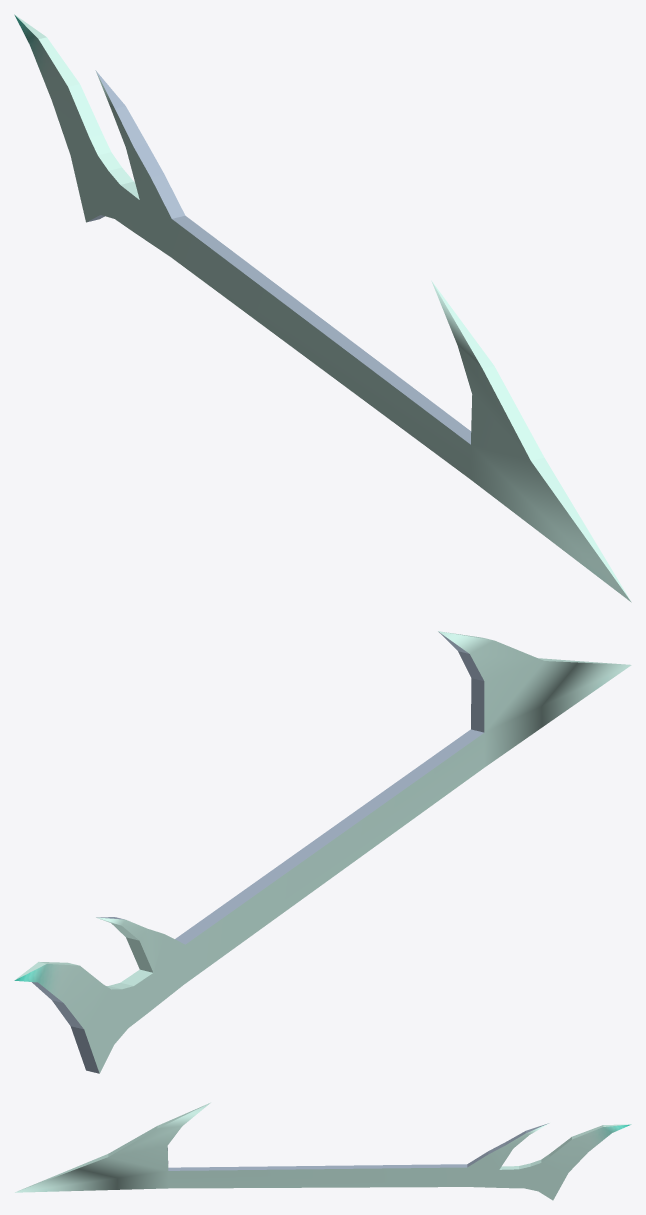
File: Dice_wind_wepone.FBX
3 views of the same model, one above another, from view 1: azimuth 30°, elevation 25°; view 2: azimuth 150°, elevation 25°; view 3: azimuth 270°, elevation 25° (orthographic). The views are drawn at different scales.
Parts seen in each view (by area): view 1: Dice_wind_wepone; view 2: Dice_wind_wepone; view 3: Dice_wind_wepone.
Boxes of the visible parts, <box> form: Dice_wind_wepone: <box>14,14,631,602</box>; Dice_wind_wepone: <box>14,631,631,1073</box>; Dice_wind_wepone: <box>15,1102,631,1200</box>.
Bounding box in the file's own units: 1.17 × 15.78 × 92.11.
1 material, 1 textured.
